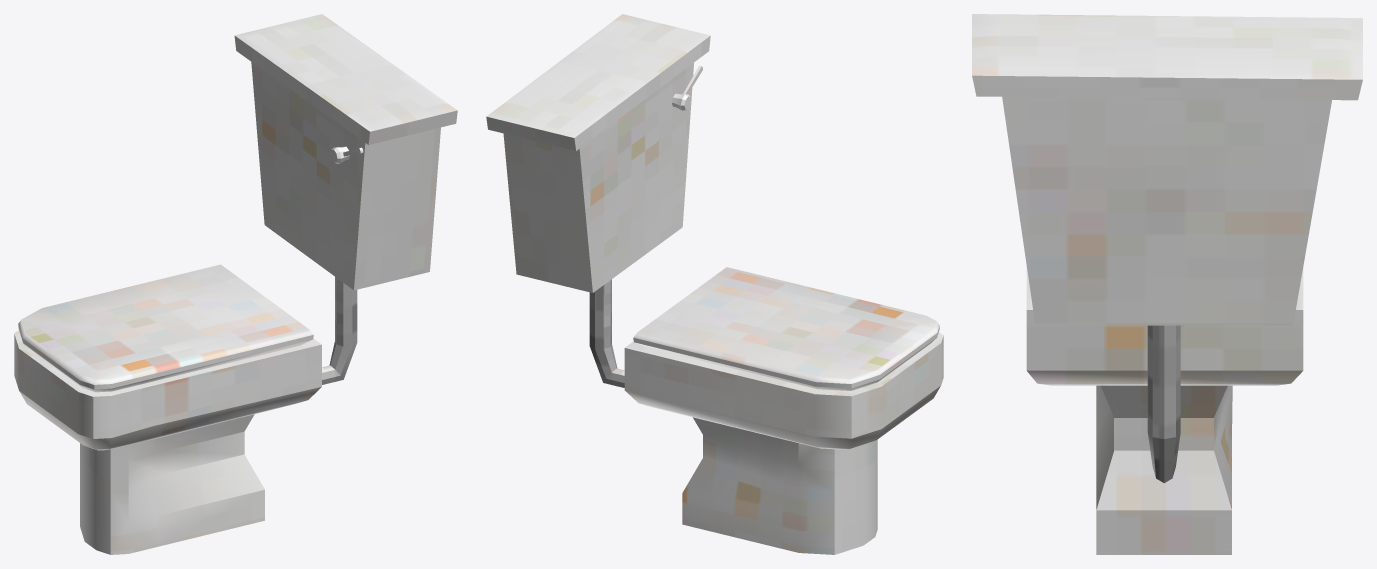
Rendered from Retrete.fbx.
3 views of the same model, side by side, from view 1: azimuth 30°, elevation 25°; view 2: azimuth 150°, elevation 25°; view 3: azimuth 270°, elevation 25° (orthographic). The views are drawn at different scales.
Visible parts, largest first — view 1: Retrete; view 2: Retrete; view 3: Retrete.
Part boxes in pixels (x1,y1,x2,y2): Retrete: (14, 14, 457, 554); Retrete: (486, 14, 943, 554); Retrete: (972, 14, 1362, 554).
Bounding box in the file's own units: 106 × 119 × 71.72.
Materials: 1 (1 with a texture image).
